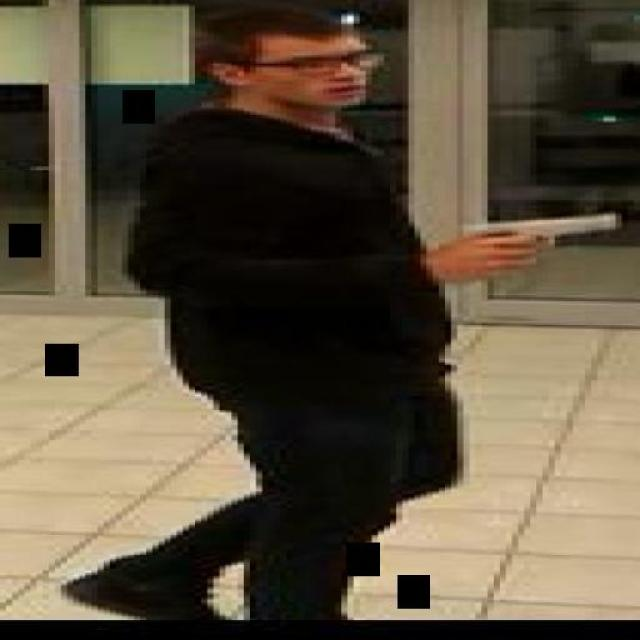gun: (445, 206, 623, 278)
